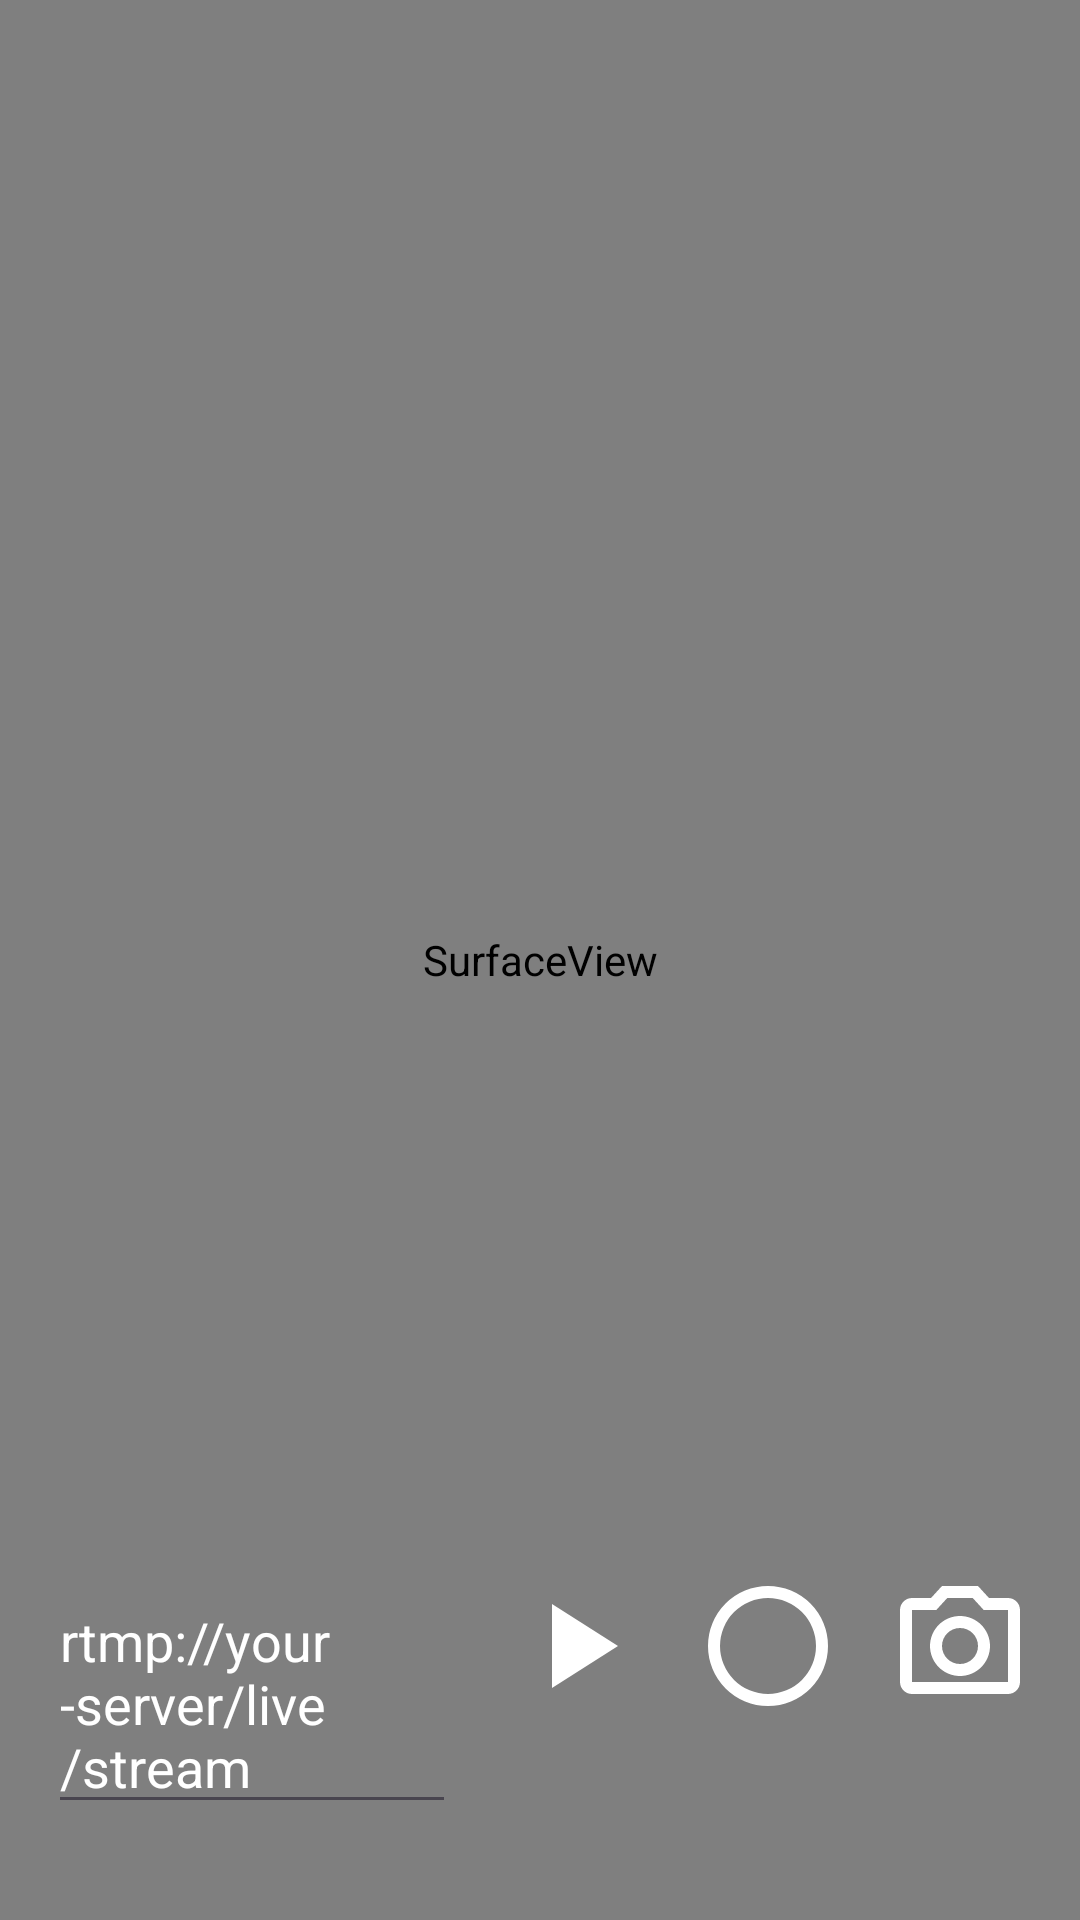

Locate icon controls on the screen. Image size 1080*1920, boxes as (x1, y1, x2, y2).
camera switch: (900, 1586, 1020, 1694)
record: (708, 1586, 828, 1706)
